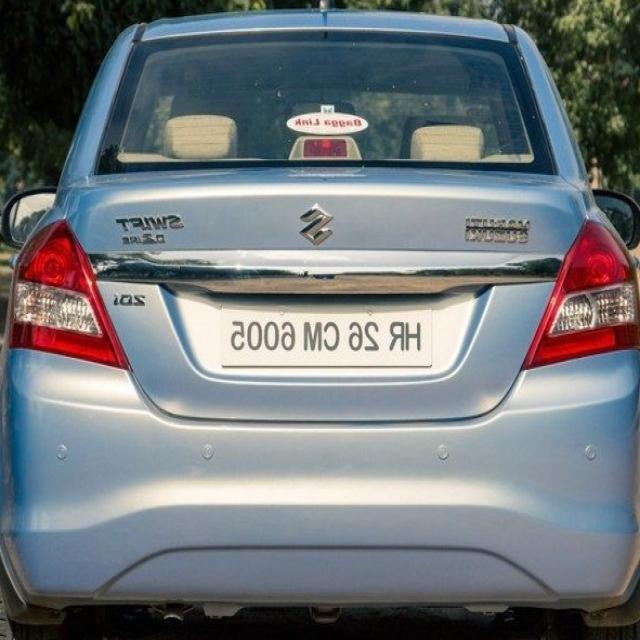number-plate: (215, 296, 446, 379)
